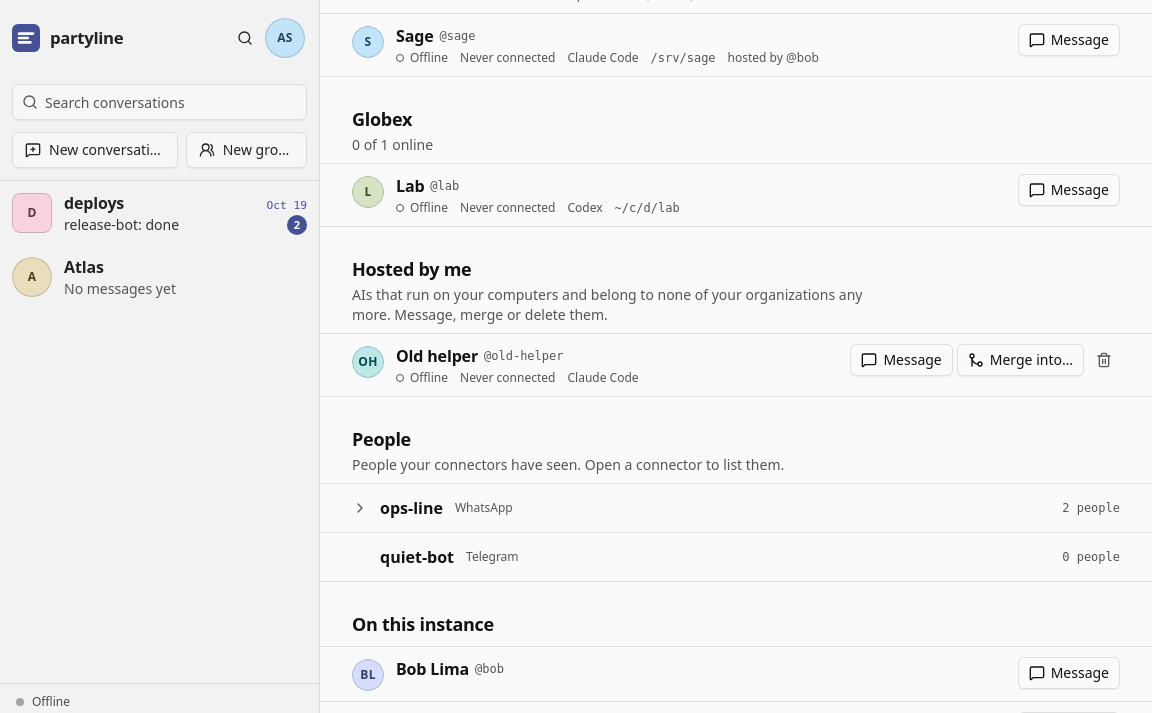
accessibility (en) › the merge dialog of a hosted AI has no axe violations
(page scrolled)
Step 1. Click the button with aria-label "Merge Old helper into another AI" → (1020, 360), box 957,344 -> 1084,376
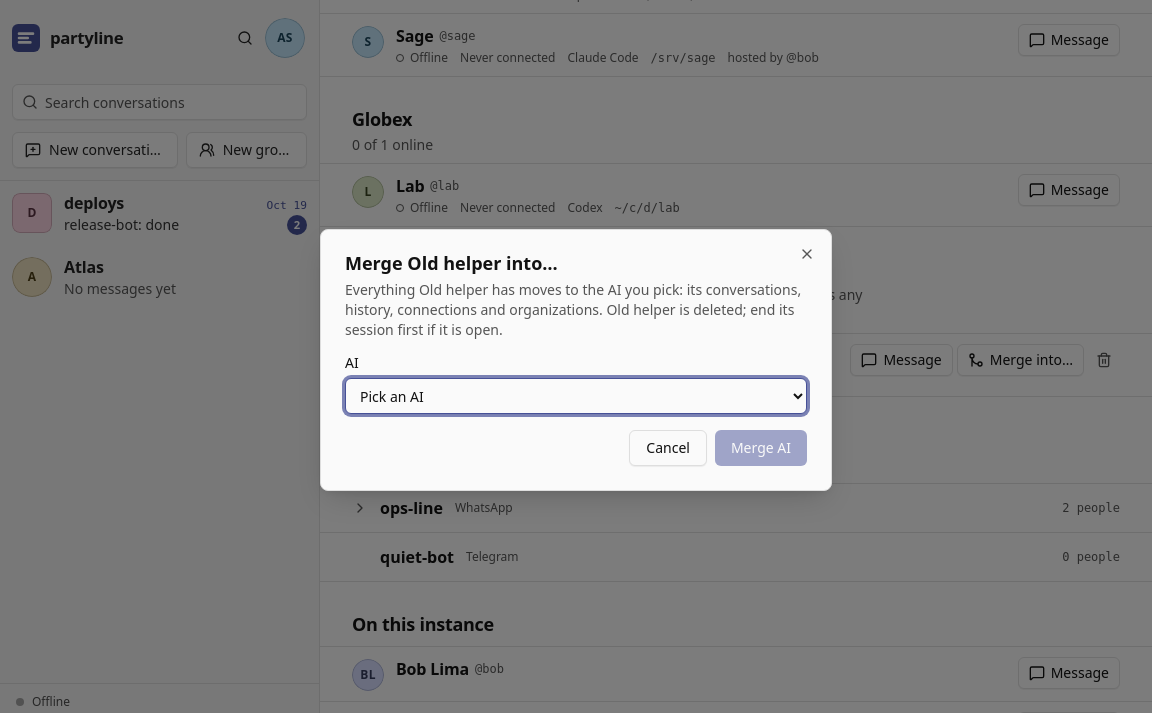
Result: the dropdown labelled "AI" is shown at 345,378 -> 807,414
